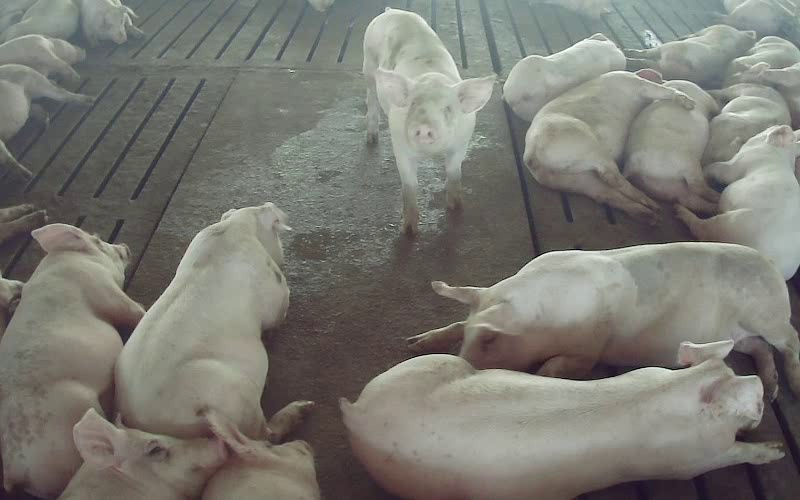pig: (340, 341, 782, 499), (115, 204, 288, 438), (0, 224, 143, 497), (364, 9, 494, 234), (523, 70, 693, 223), (675, 125, 799, 279), (623, 80, 718, 215), (504, 33, 624, 121), (623, 24, 755, 88), (702, 83, 790, 165), (723, 36, 799, 86)
